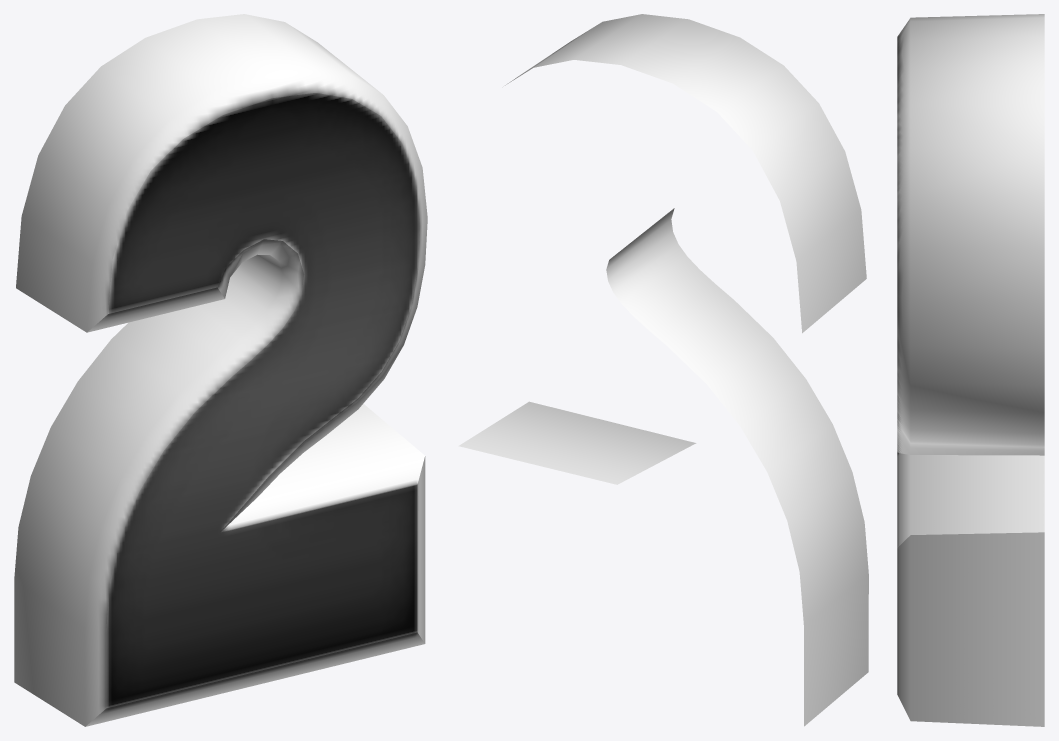
File: bbl_score_model__score_2b.glb
The picture shows the model from 3 angles, left to right: view 1: azimuth 30°, elevation 25°; view 2: azimuth 150°, elevation 25°; view 3: azimuth 270°, elevation 25°; orthographic projection.
Parts seen in each view (by area): view 1: polygon0, polygon1; view 2: polygon1; view 3: polygon1.
Boxes of the visible parts, x1,y1,x2,y2 form: polygon0: [106, 93, 419, 708]; polygon1: [14, 14, 427, 726]; polygon1: [458, 14, 868, 726]; polygon1: [897, 14, 1044, 726].
Size of the model in its own units: 2.96 by 5.02 by 1.1.
Materials: 2 (2 with a texture image).
